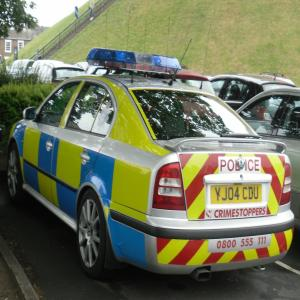Vehicle-registration-plate: (211, 186, 263, 206)
